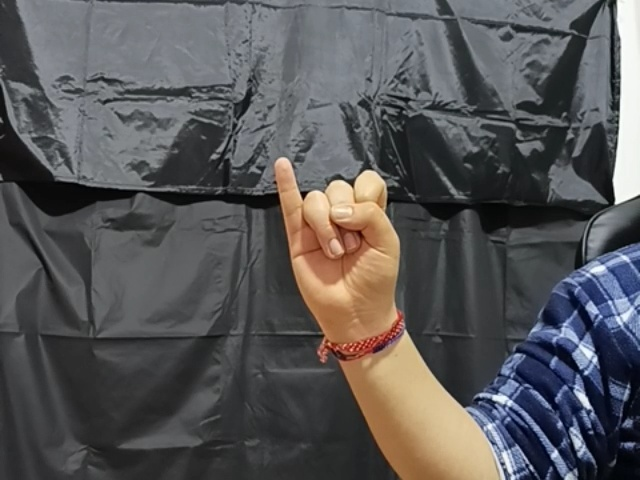I: (270, 155, 404, 320)
